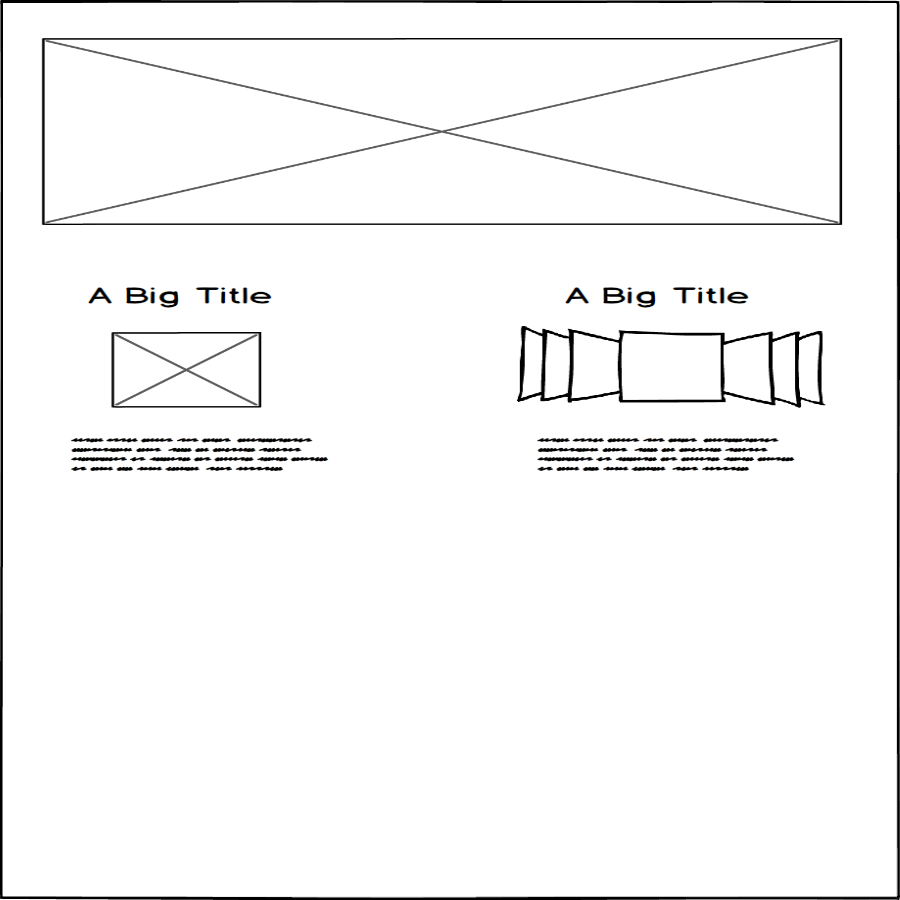h1: (561, 270, 767, 314), (79, 273, 282, 312)
image: (37, 26, 855, 234), (104, 322, 265, 414)
p: (541, 428, 808, 480), (57, 432, 335, 475)
slideshow: (512, 321, 830, 415)
